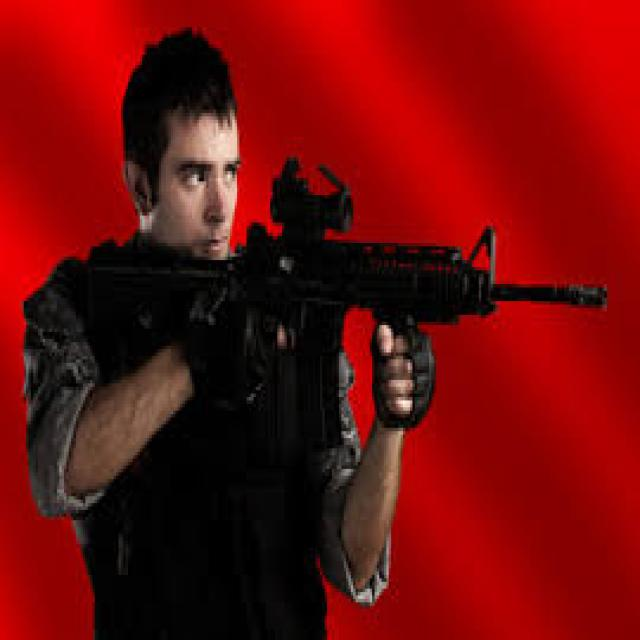soldier: (23, 30, 608, 640)
